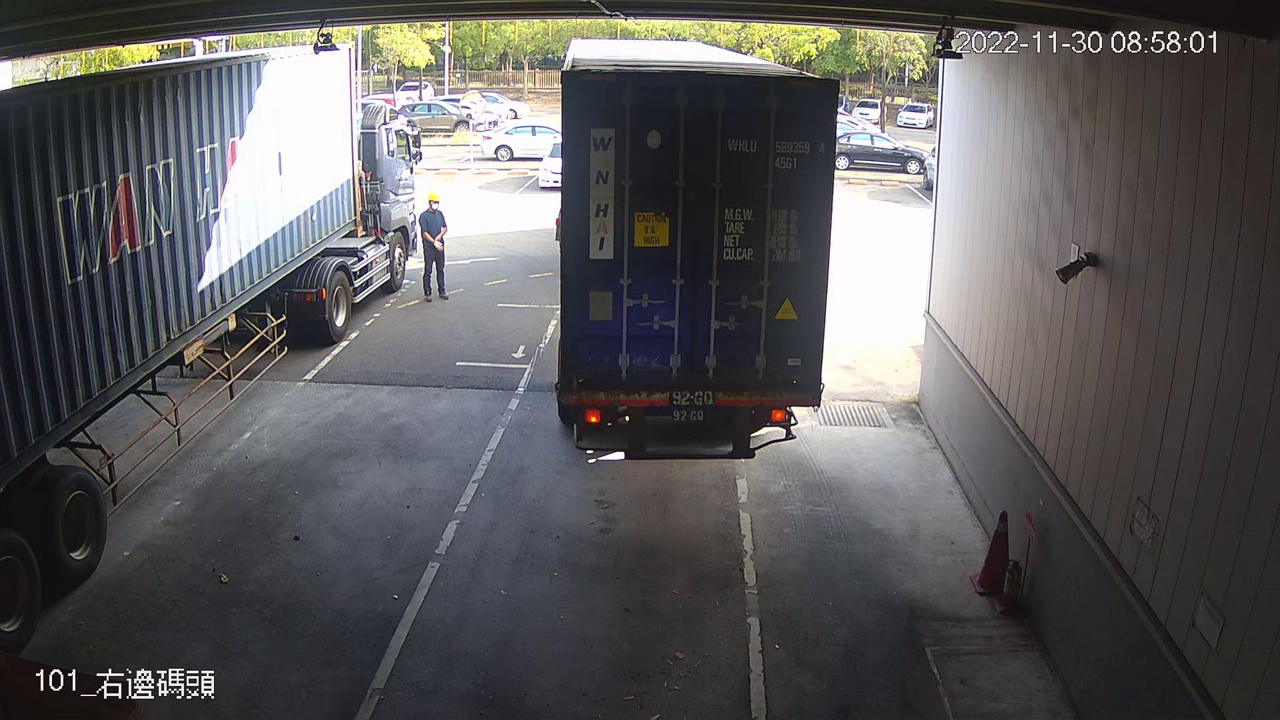container: (723, 132, 830, 175)
